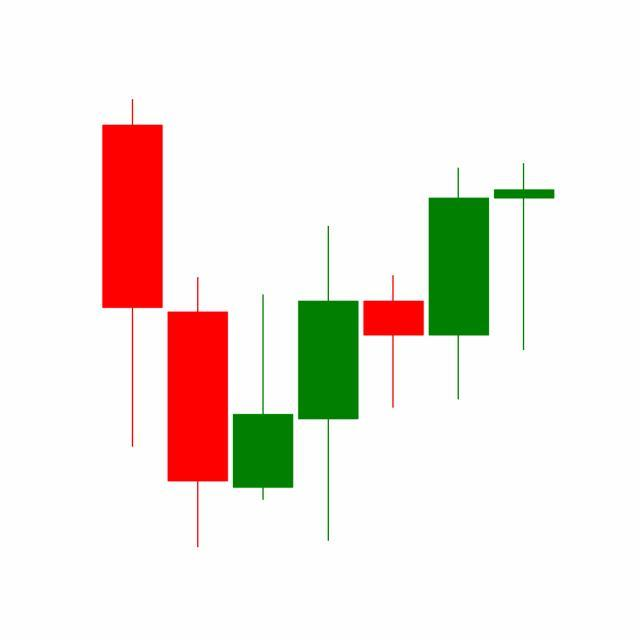Hikkake Pattern: (165, 163, 492, 549)
